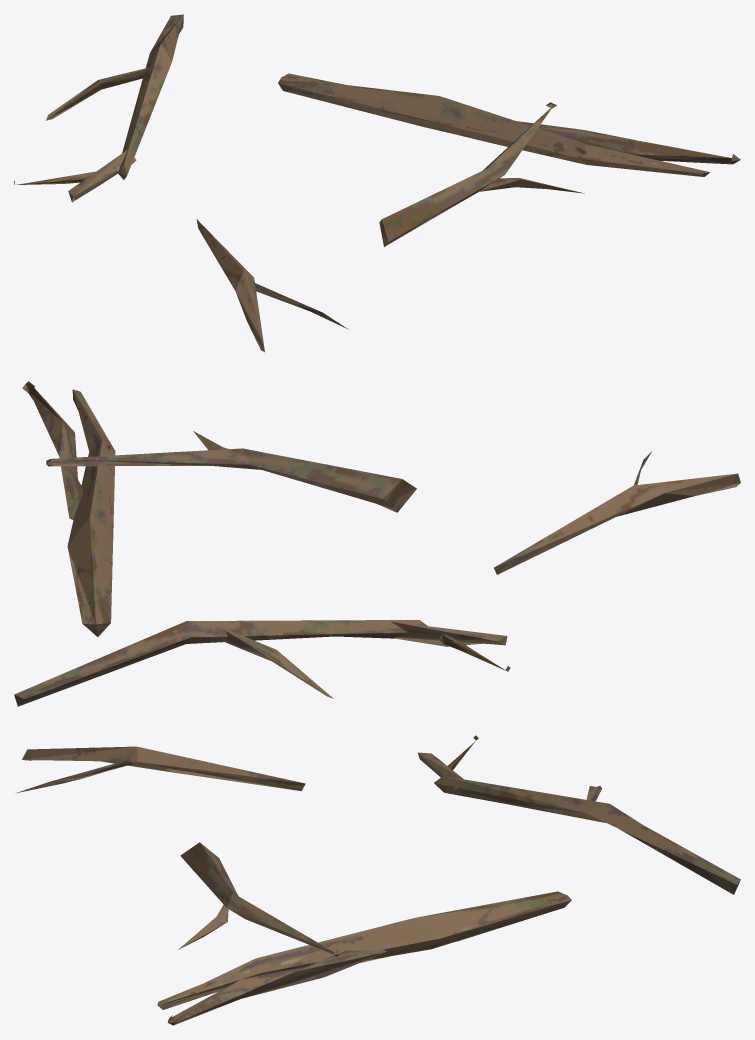
Rendered from gi-Flower_Twigs_01.glb.
The picture shows the model from 3 angles, top to bottom: view 1: azimuth 30°, elevation 25°; view 2: azimuth 150°, elevation 25°; view 3: azimuth 270°, elevation 25°; orthographic projection. The views are drawn at different scales.
Visible parts, largest first — view 1: gi-Flower_Twigs_01; view 2: gi-Flower_Twigs_01; view 3: gi-Flower_Twigs_01.
Boxes of the visible parts, left/top/right/bottom form: gi-Flower_Twigs_01: left=14, top=14, right=740, bottom=352; gi-Flower_Twigs_01: left=14, top=381, right=740, bottom=706; gi-Flower_Twigs_01: left=16, top=735, right=740, bottom=1025.
Size of the model in its own units: 0.9761 by 0.0984 by 1.07.
Materials: 1 (1 with a texture image).
